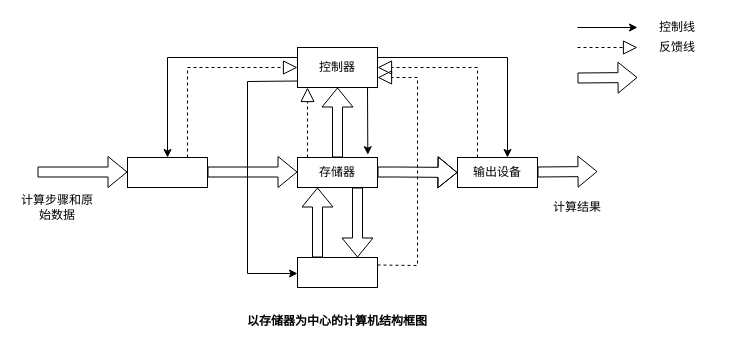
The diagram is 734 pixels wide and 350 high, and some of its shapes have lost their labels. The centre of each missing label's shape, as x and y in pixels:
"输入设备" goes at pixel 167 172.
"运算器" goes at pixel 337 272.
